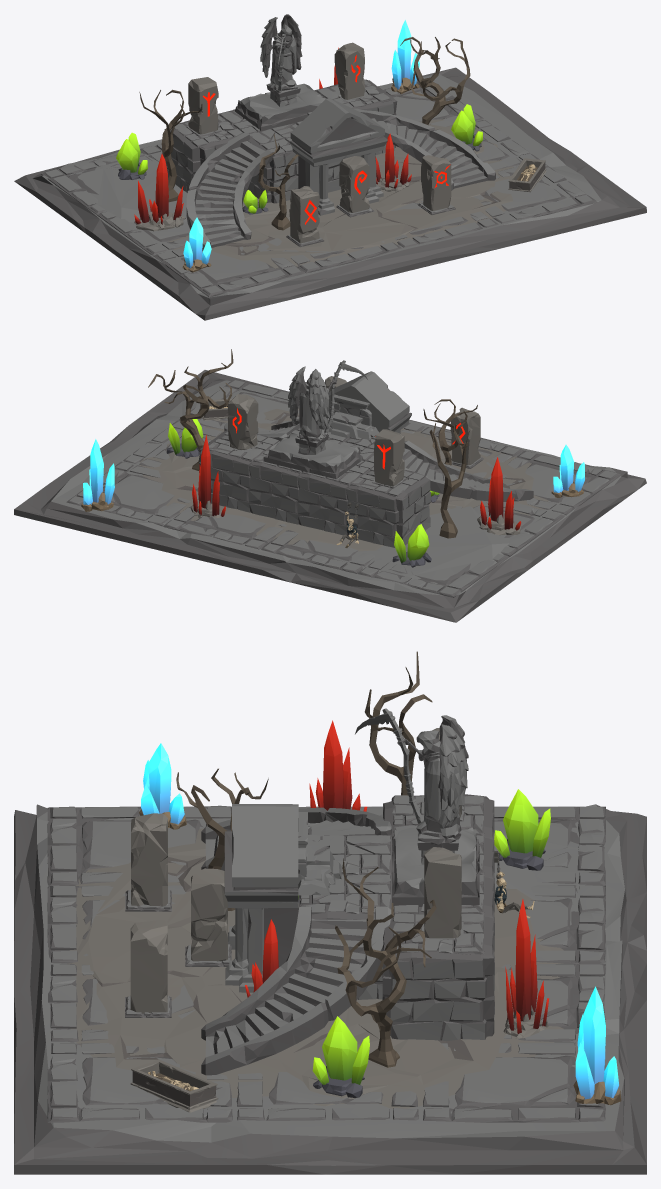
Rendered from Halloween.glb.
3 views of the same model, one above another, from view 1: azimuth 30°, elevation 25°; view 2: azimuth 150°, elevation 25°; view 3: azimuth 270°, elevation 25° (orthographic). The views are drawn at different scales.
Visible parts, largest first — view 1: Tiles_07__2, CrackedRock, Entrance_Crypt, SpiralStairs_02__1, SpiralStairs_02, Tiles_05__7, Tiles_05__4, Statue_01, Tiles_07__1, Tiles_05__12, Gem_Spike_Red_01__1, Tiles_05__15 (+26 smaller); view 2: Tiles_07__2, CrackedRock, Tiles_05__15, Statue_01, Tiles_05__7, Wall_Quarter_01__9, Tiles_05__12, Wall_Quarter_01__10, Wall_Quarter_01__11, SpiralStairs_02__1, Tiles_05__14, Tiles_07__1 (+26 smaller); view 3: Tiles_07__2, CrackedRock, SpiralStairs_02, Entrance_Crypt, Tiles_05__15, Tiles_05__4, Wall_Quarter_01__5, Tiles_05__7, Statue_01, Tiles_05__13, Tiles_05__8, Tree_Twisted_01 (+27 smaller).
Part boxes in pixels (left/top/right/bottom): Tiles_07__2: left=14, top=67, right=646, bottom=320; CrackedRock: left=168, top=119, right=513, bottom=268; Entrance_Crypt: left=290, top=98, right=387, bottom=215; SpiralStairs_02__1: left=186, top=132, right=273, bottom=250; SpiralStairs_02: left=352, top=108, right=495, bottom=190; Tiles_05__7: left=153, top=243, right=305, bottom=297; Tiles_05__4: left=473, top=164, right=597, bottom=223; Statue_01: left=260, top=14, right=302, bottom=107; Tiles_07__1: left=235, top=83, right=325, bottom=131; Tiles_05__12: left=41, top=152, right=156, bottom=214; Gem_Spike_Red_01__1: left=134, top=154, right=185, bottom=231; Tiles_05__15: left=383, top=81, right=483, bottom=126; Tiles_07__2: left=14, top=370, right=646, bottom=622; CrackedRock: left=139, top=408, right=548, bottom=551; Tiles_05__15: left=66, top=461, right=197, bottom=526; Statue_01: left=288, top=360, right=367, bottom=456; Tiles_05__7: left=487, top=450, right=621, bottom=515; Wall_Quarter_01__9: left=248, top=460, right=299, bottom=524; Tiles_05__12: left=357, top=553, right=509, bottom=597; Wall_Quarter_01__10: left=297, top=472, right=348, bottom=535; Wall_Quarter_01__11: left=346, top=484, right=399, bottom=547; SpiralStairs_02__1: left=402, top=440, right=533, bottom=501; Tiles_05__14: left=163, top=504, right=286, bottom=549; Tiles_07__1: left=263, top=433, right=362, bottom=478; Tiles_07__2: left=14, top=804, right=646, bottom=1174; CrackedRock: left=67, top=828, right=563, bottom=1108; SpiralStairs_02: left=201, top=906, right=391, bottom=1075; Entrance_Crypt: left=224, top=804, right=298, bottom=992; Tiles_05__15: left=423, top=1042, right=605, bottom=1122; Tiles_05__4: left=47, top=1042, right=232, bottom=1122; Wall_Quarter_01__5: left=388, top=951, right=486, bottom=1040; Tiles_05__7: left=47, top=806, right=231, bottom=885; Statue_01: left=355, top=708, right=468, bottom=864; Tiles_05__13: left=528, top=885, right=605, bottom=963; Tiles_05__8: left=236, top=1072, right=418, bottom=1120; Tree_Twisted_01: left=335, top=858, right=436, bottom=1067.
Size of the model in its own units: 22.75 by 7.84 by 17.
3 materials, 3 textured.
